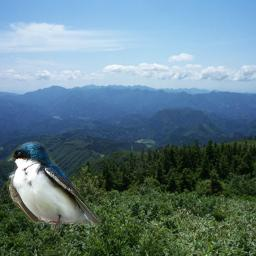Swallow: (6, 140, 102, 238)
